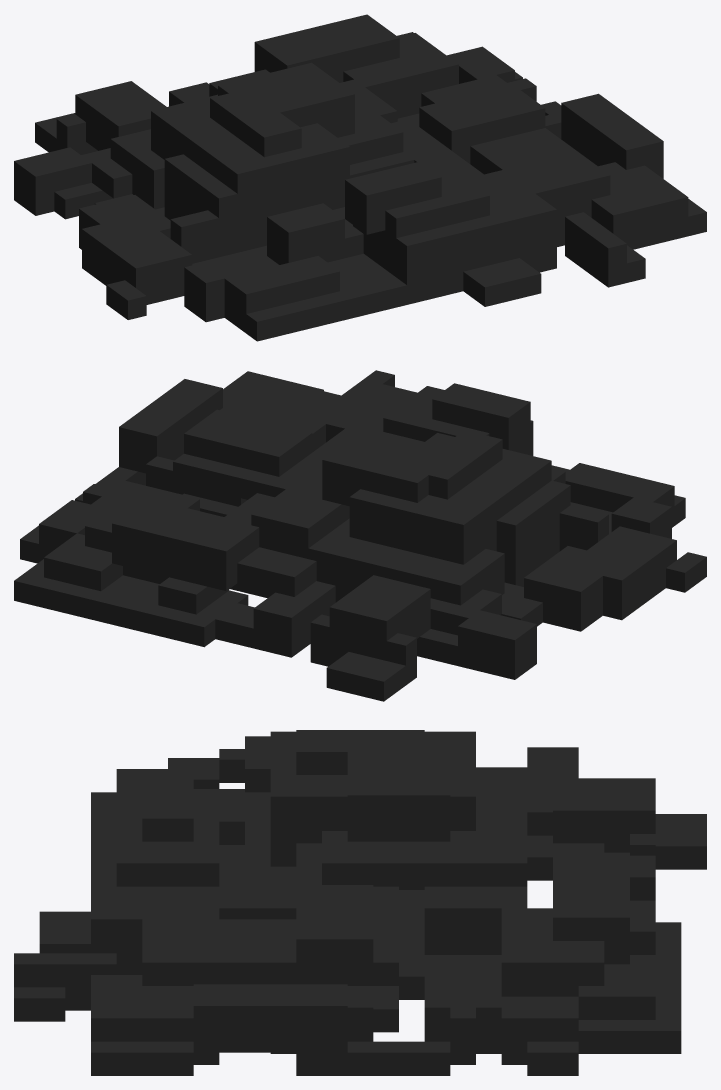
The model's file is scrap.obj.
3 renders of one model, top to bottom at view 1: azimuth 30°, elevation 25°; view 2: azimuth 150°, elevation 25°; view 3: azimuth 270°, elevation 25°, orthographic. The views are drawn at different scales.
Bounding box in the file's own units: 2.8 × 0.6 × 2.7.
